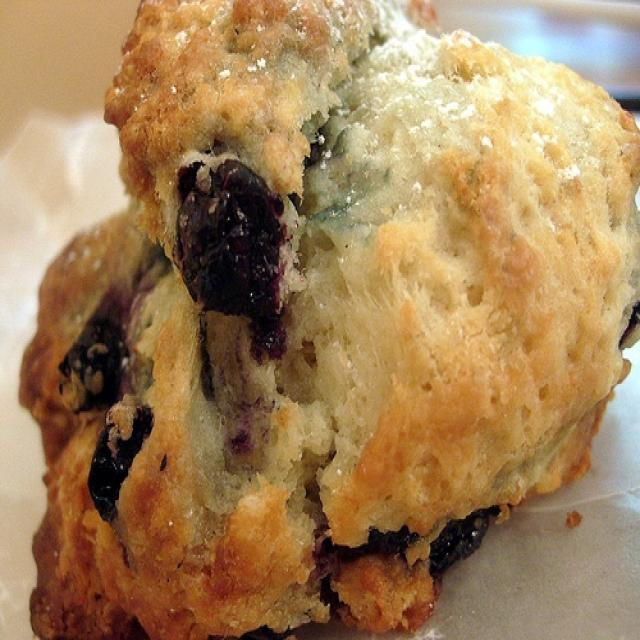面包点心: (12, 7, 631, 628)
